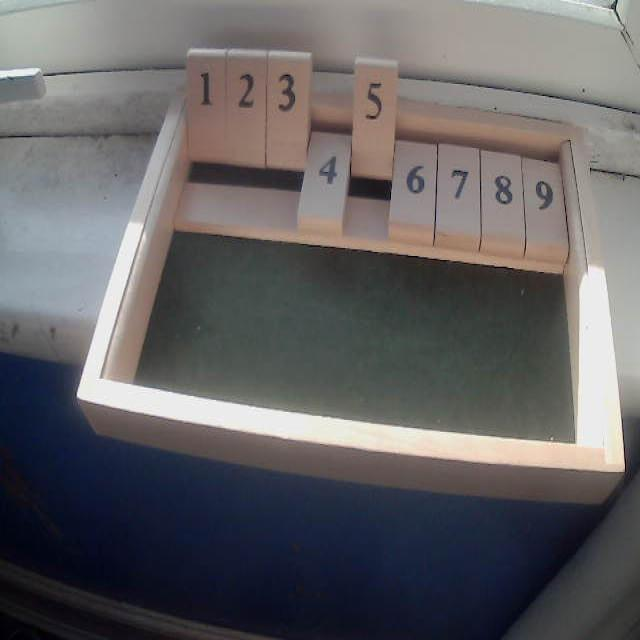C4: (299, 94, 349, 237)
C6: (392, 104, 437, 247)
C7: (438, 110, 483, 254)
C8: (483, 113, 525, 260)
C9: (524, 120, 570, 263)
O1: (176, 48, 226, 224)
O2: (217, 47, 267, 229)
O3: (260, 51, 310, 230)
O5: (353, 56, 399, 242)
